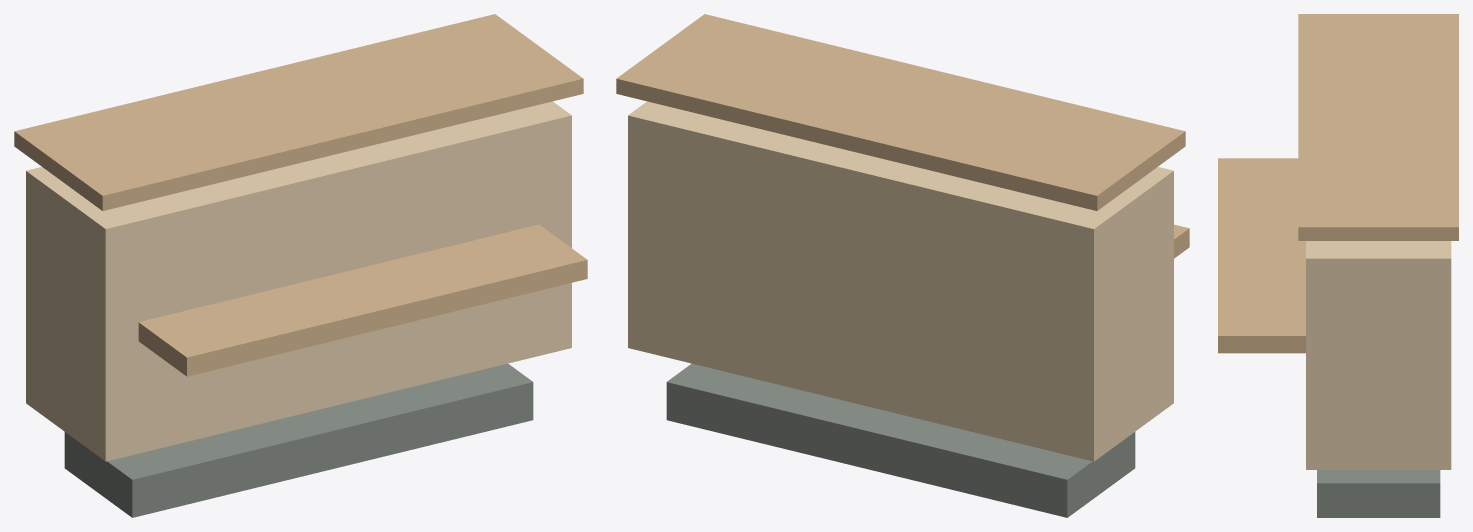
Rendered from low_bookshelf.glb.
3 renders of one model, left to right at view 1: azimuth 30°, elevation 25°; view 2: azimuth 150°, elevation 25°; view 3: azimuth 270°, elevation 25°, orthographic. The views are drawn at different scales.
Visible parts, largest first — view 1: low_bookshelf_oak_light_0, low_bookshelf_oak_1, low_bookshelf_dark_2, low_bookshelf_oak_3; view 2: low_bookshelf_oak_light_0, low_bookshelf_oak_1, low_bookshelf_dark_2; view 3: low_bookshelf_oak_1, low_bookshelf_oak_light_0, low_bookshelf_oak_3, low_bookshelf_dark_2.
Part boxes in pixels (<box>): low_bookshelf_oak_light_0: <box>26,101,571,461</box>; low_bookshelf_oak_1: <box>14,14,583,210</box>; low_bookshelf_dark_2: <box>64,363,533,517</box>; low_bookshelf_oak_3: <box>138,224,587,376</box>; low_bookshelf_oak_light_0: <box>628,101,1173,461</box>; low_bookshelf_oak_1: <box>616,14,1185,210</box>; low_bookshelf_dark_2: <box>666,363,1135,517</box>; low_bookshelf_oak_1: <box>1298,14,1458,240</box>; low_bookshelf_oak_light_0: <box>1306,241,1451,469</box>; low_bookshelf_oak_3: <box>1218,158,1305,353</box>; low_bookshelf_dark_2: <box>1317,470,1440,517</box>.
Size of the model in its own units: 1.32 by 0.89 by 0.63.
